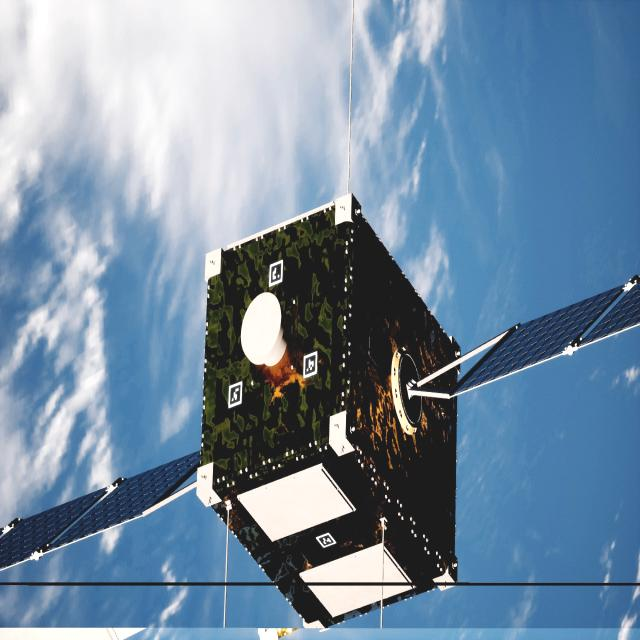medium_debris: (0, 197, 640, 628)
